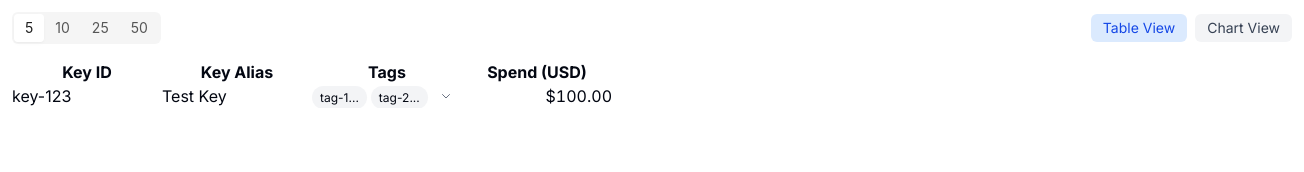
Test: TopKeyView › should collapse tags when collapse button is clicked
This screenshot has width=1304, height=172.
Click the button titled "Show all tags" at [446, 96], box x1=436 y1=86 x2=456 y2=106
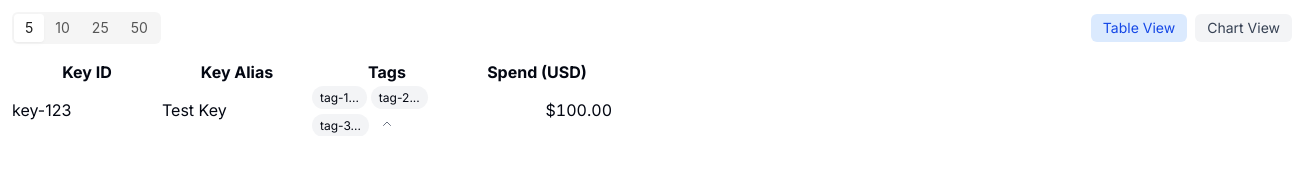
expect the text "tag-3..." is shown: met, box x1=312 y1=114 x2=369 y2=136
Click the button titled "Show fewer tags" at [387, 124], box x1=377 y1=114 x2=397 y2=134
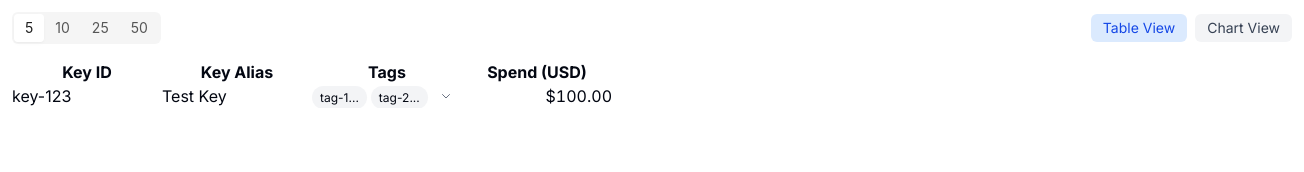
expect the text "tag-3" is gone: met
